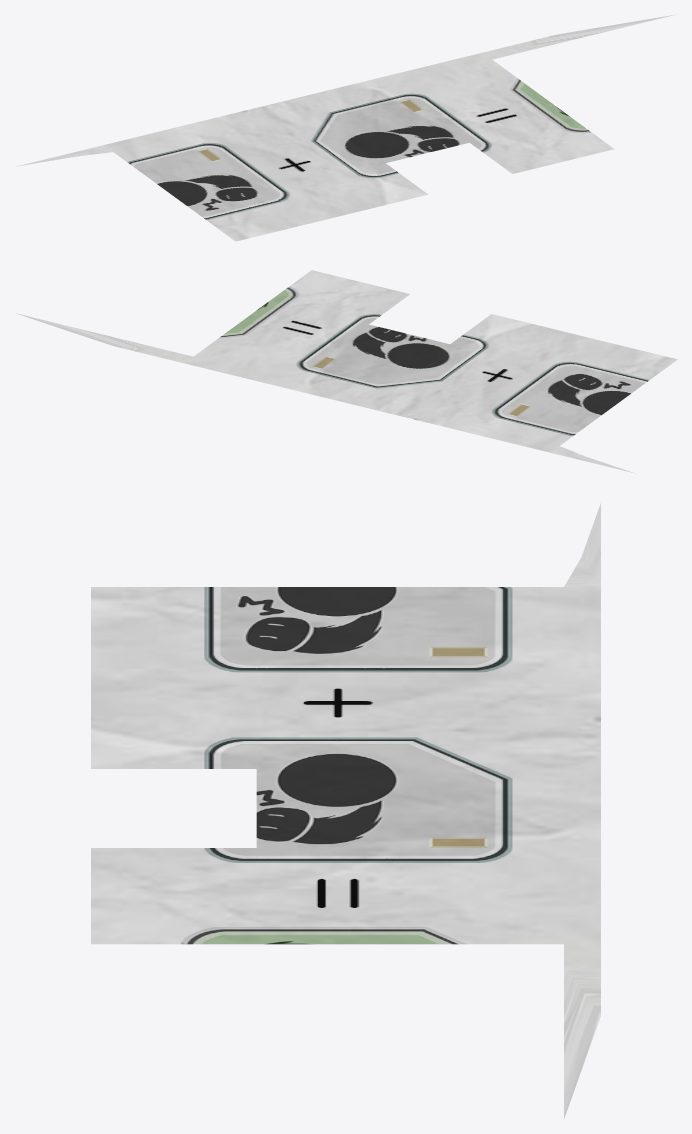
Rendered from Blueprint2.fbx.
The picture shows the model from 3 angles, top to bottom: view 1: azimuth 30°, elevation 25°; view 2: azimuth 150°, elevation 25°; view 3: azimuth 270°, elevation 25°; orthographic projection. The views are drawn at different scales.
Visible parts, largest first — view 1: 平面.001; view 2: 平面.001; view 3: 平面.001.
Part boxes in pixels (x1,y1,x2,y2): 平面.001: (16,14,675,241); 平面.001: (16,270,677,473); 平面.001: (91,503,600,1118).
Size of the model in its own units: 200 by 0 by 69.86.
1 material, 1 textured.
